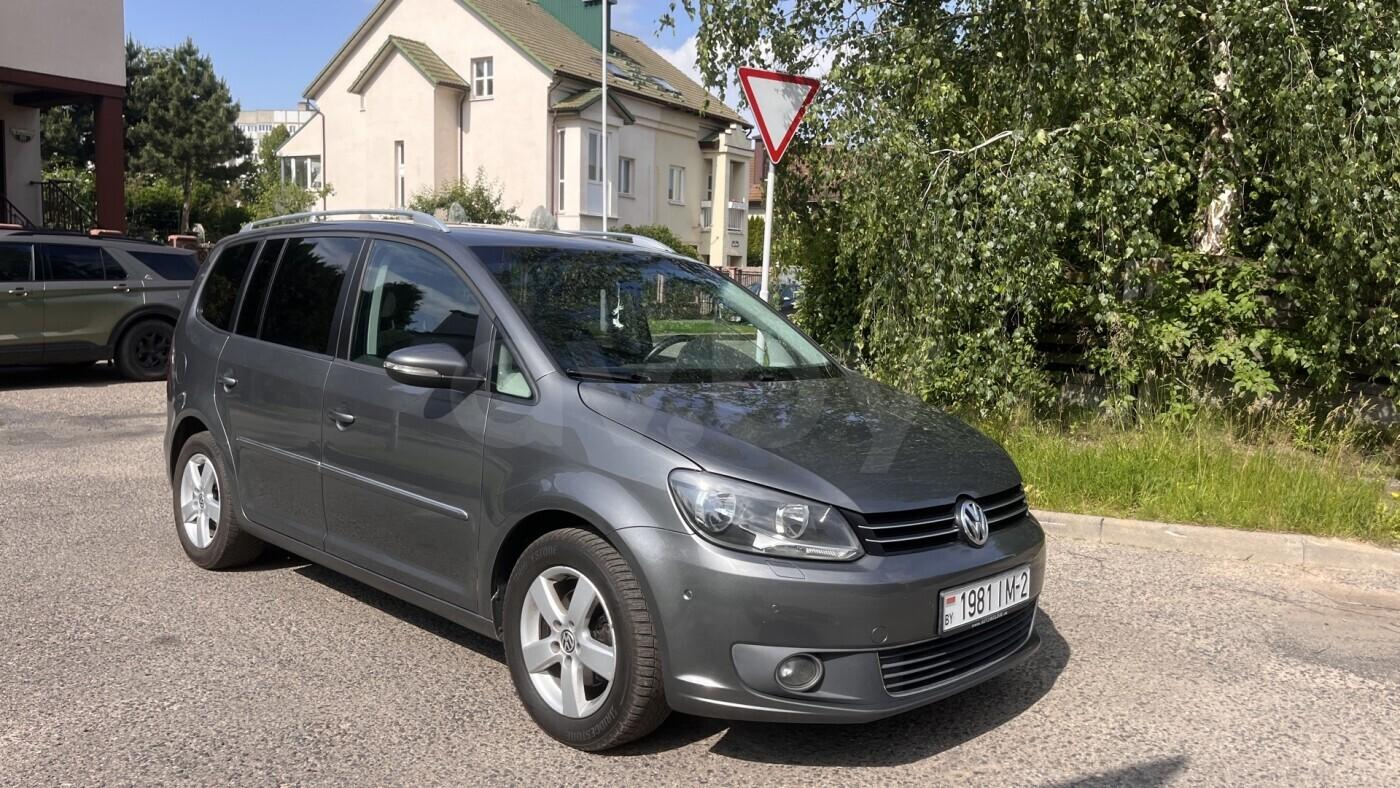Touran_2010-2015: (156, 210, 1057, 756)
